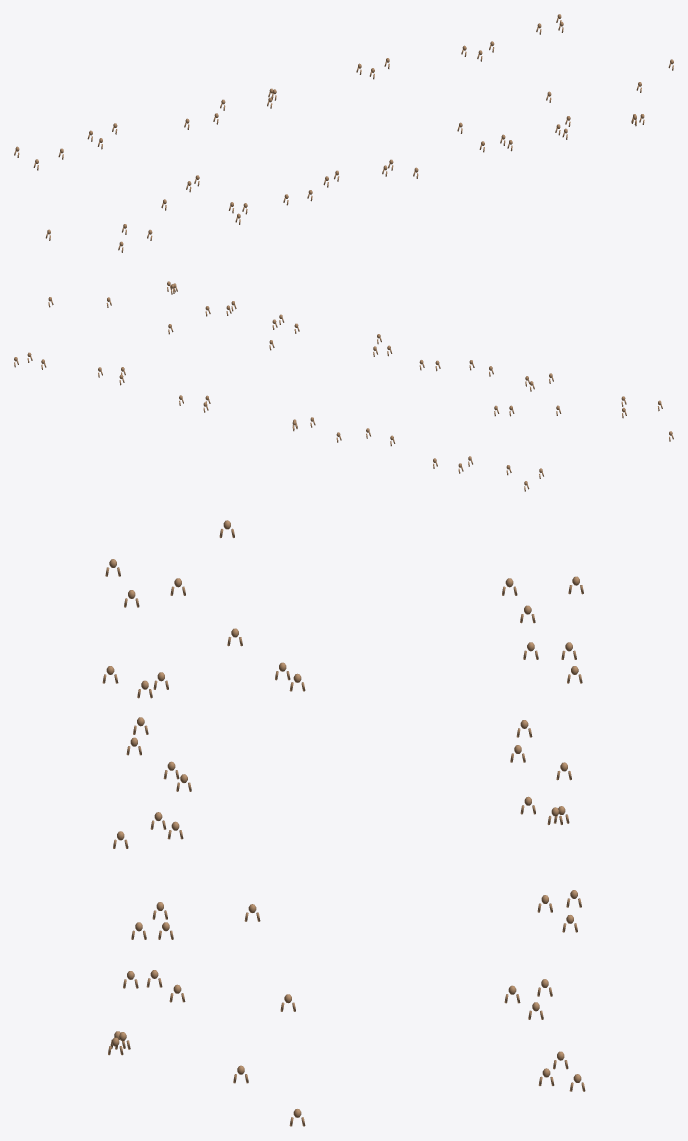
The model's file is SM_DK_09_Paddock_transporters_tents_and_service_equipment_skin.fbx.
The picture shows the model from 3 angles, top to bottom: view 1: azimuth 30°, elevation 25°; view 2: azimuth 150°, elevation 25°; view 3: azimuth 270°, elevation 25°; orthographic projection. The views are drawn at different scales.
Visible parts, largest first — view 1: 09 Paddock transporters tents and service equipment | skin; view 2: 09 Paddock transporters tents and service equipment | skin; view 3: 09 Paddock transporters tents and service equipment | skin.
Boxes of the visible parts, left/top/right/bottom form: 09 Paddock transporters tents and service equipment | skin: left=14, top=14, right=673, bottom=252; 09 Paddock transporters tents and service equipment | skin: left=14, top=281, right=673, bottom=491; 09 Paddock transporters tents and service equipment | skin: left=102, top=520, right=585, bottom=1126.
Size of the model in its own units: 5970 by 2059 by 85.42.
